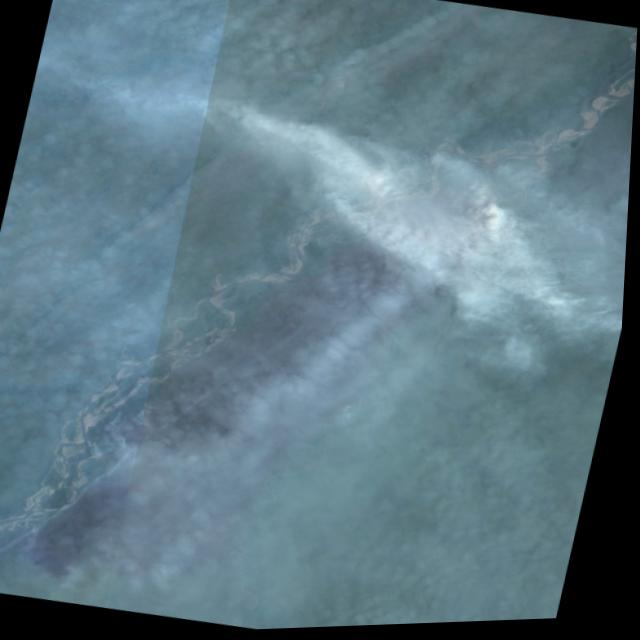fire: (448, 171, 534, 253)
